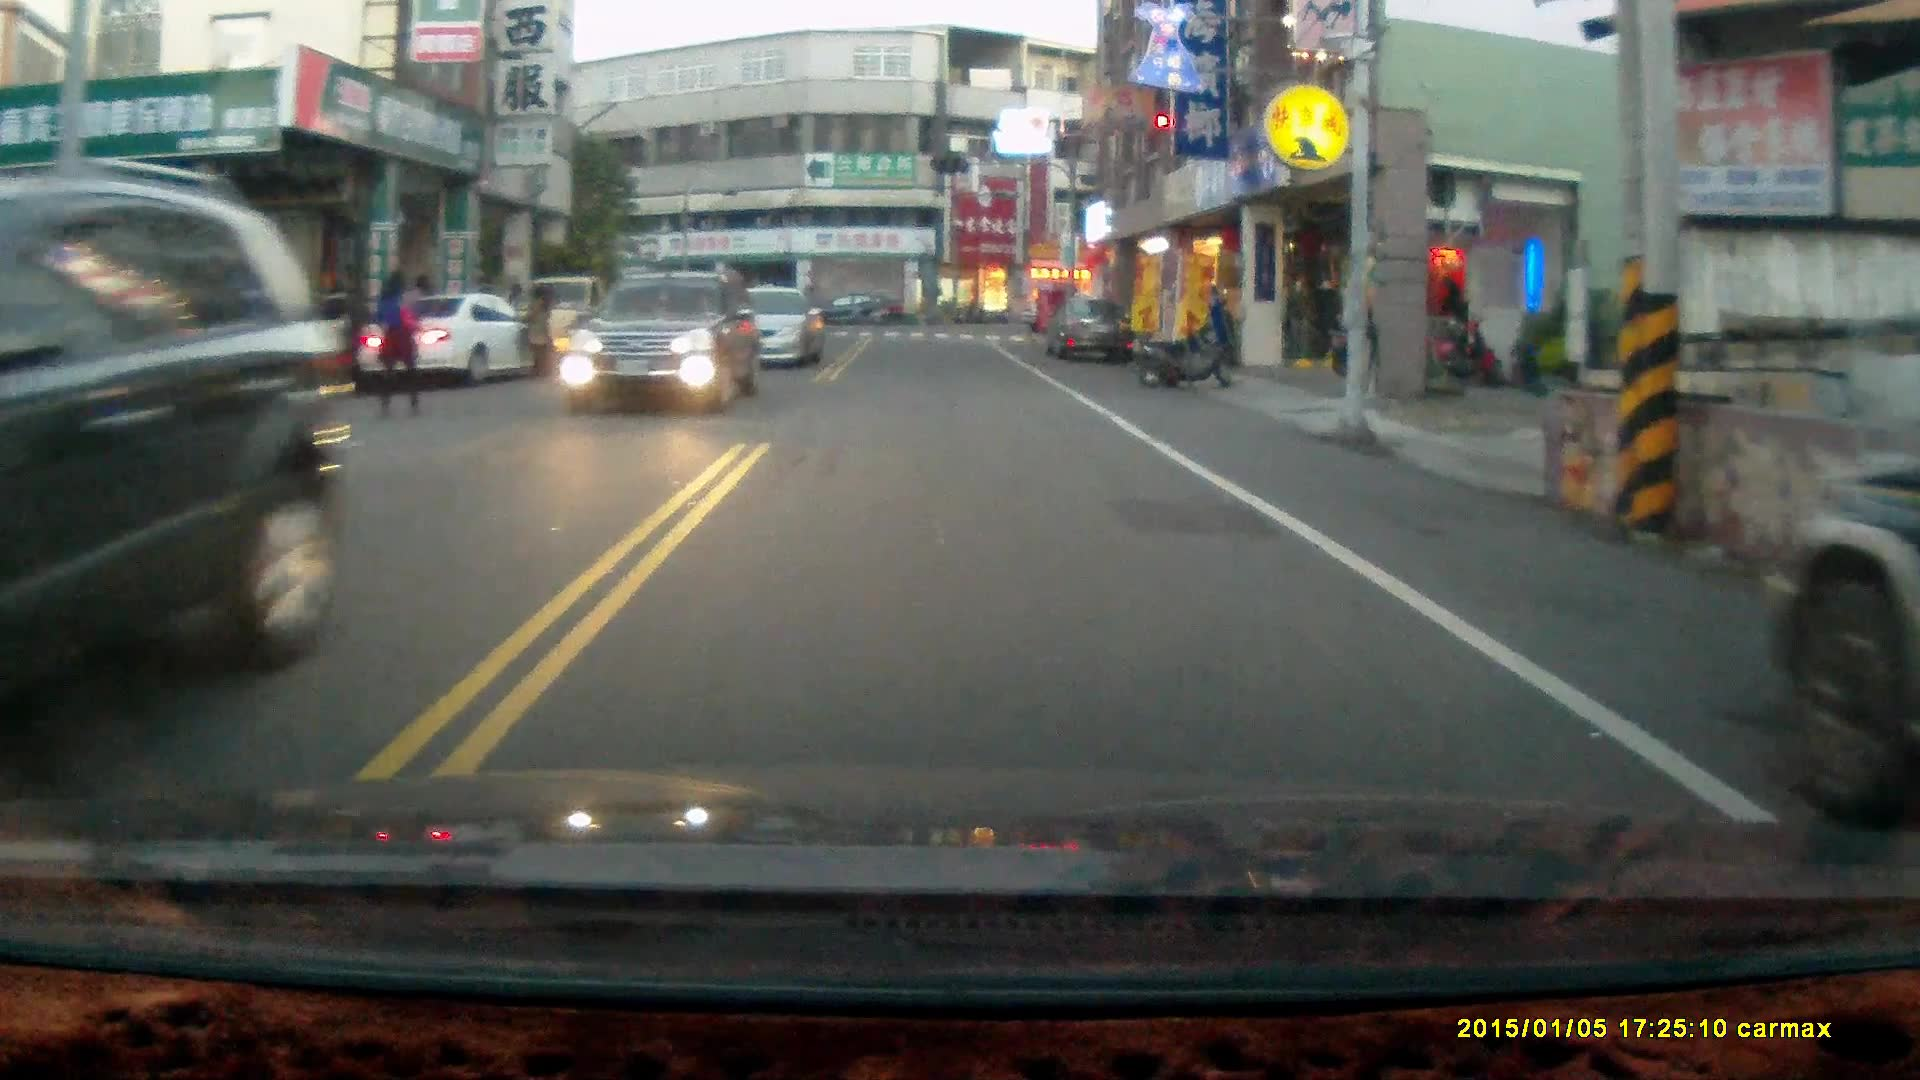pedestrian: (375, 267, 418, 421), (514, 279, 551, 379)
vehicle: (1, 149, 351, 714), (574, 265, 765, 413), (361, 289, 559, 389), (704, 281, 828, 367), (1045, 296, 1138, 366), (806, 290, 912, 329)
